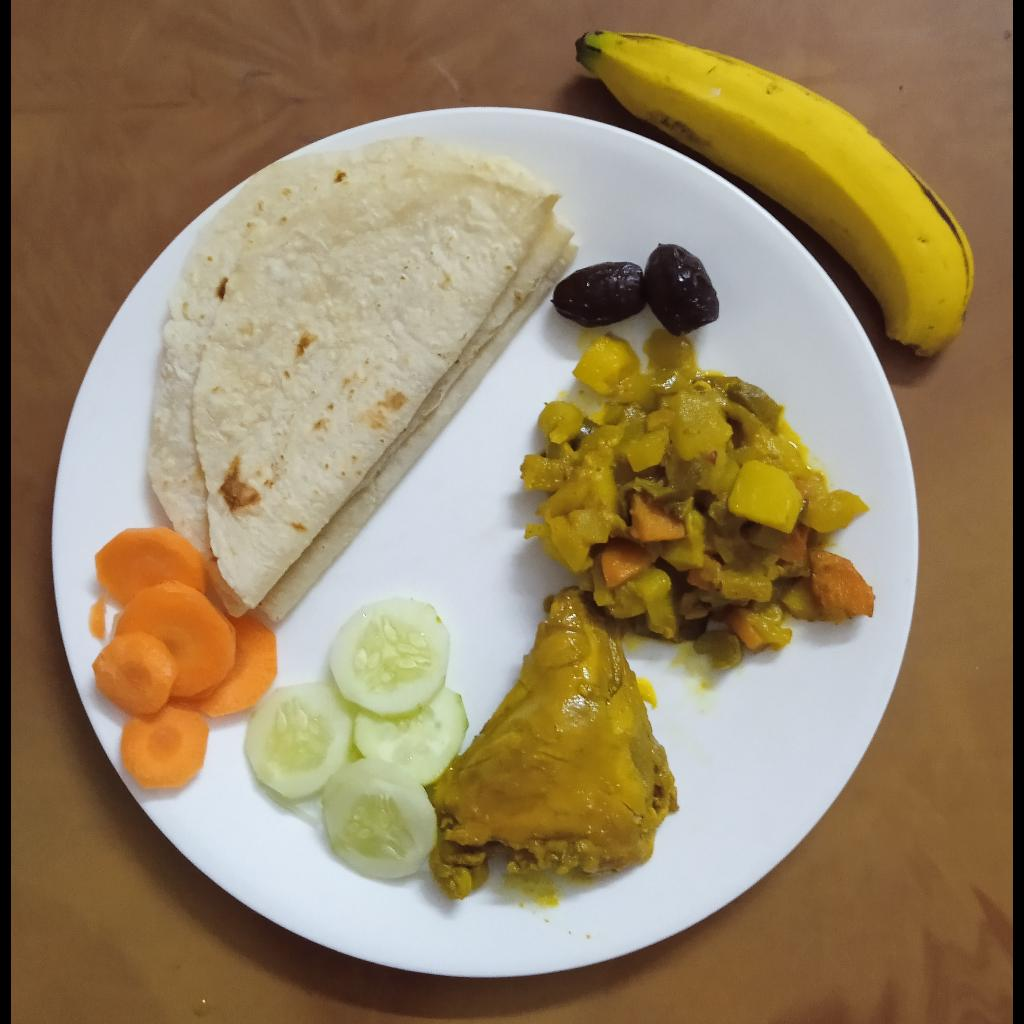banana: (576, 30, 976, 360)
carrot: (90, 524, 280, 789)
chicken: (427, 585, 680, 900)
cucumber: (242, 597, 469, 878)
dates: (551, 241, 720, 336)
ruti: (146, 138, 578, 623)
vegetable: (520, 330, 874, 671)
